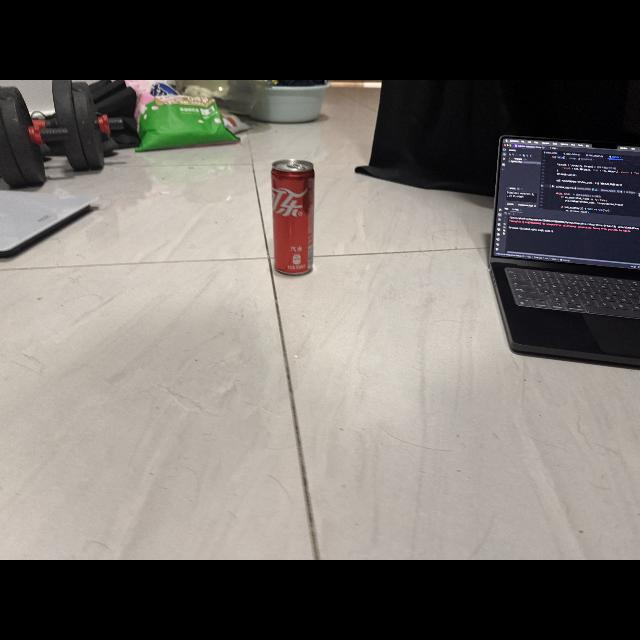Cola: (262, 149, 331, 283)
